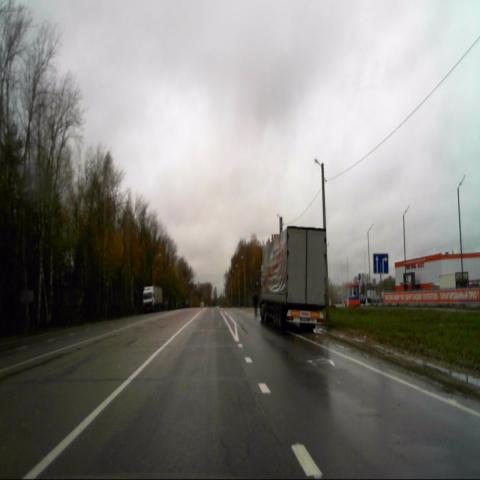5_15_2_2: (373, 253, 388, 274)
